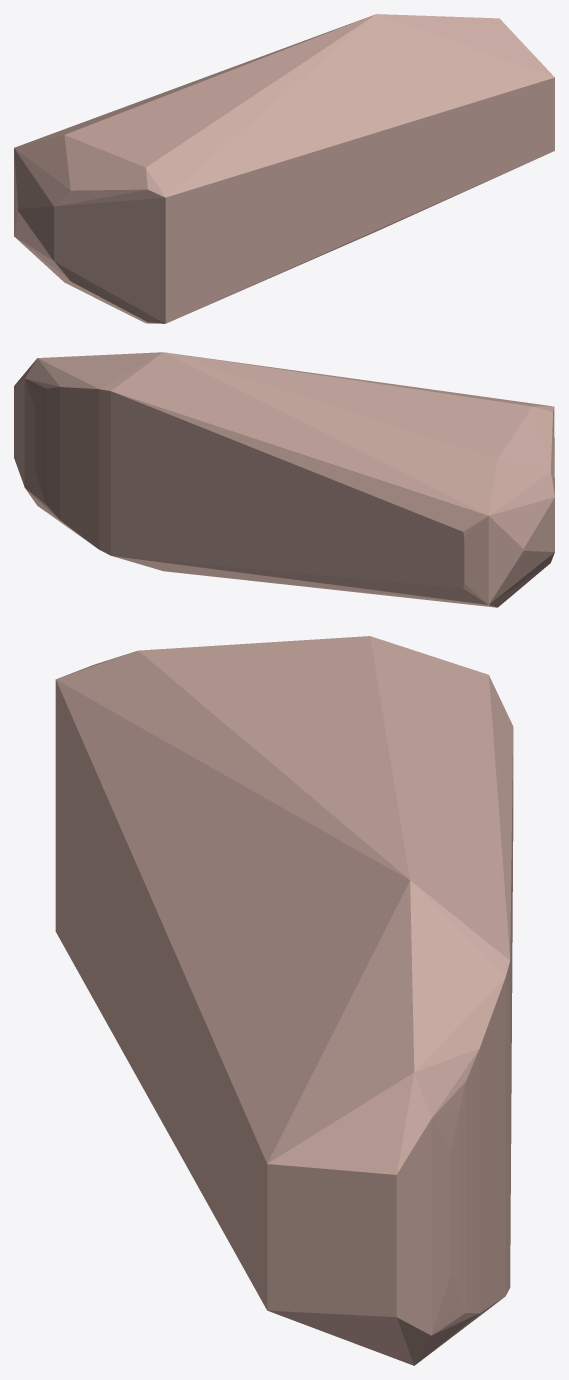
The model's file is clogs_hospital_a01.glb.
3 views of the same model, one above another, from view 1: azimuth 30°, elevation 25°; view 2: azimuth 150°, elevation 25°; view 3: azimuth 270°, elevation 25° (orthographic). The views are drawn at different scales.
Visible parts, largest first — view 1: geometry_0; view 2: geometry_0; view 3: geometry_0.
Boxes of the visible parts, x1,y1,x2,y2 form: geometry_0: [14, 14, 554, 323]; geometry_0: [14, 352, 554, 607]; geometry_0: [55, 636, 513, 1365].
Bounding box in the file's own units: 0.4673 × 0.1906 × 0.1815.
